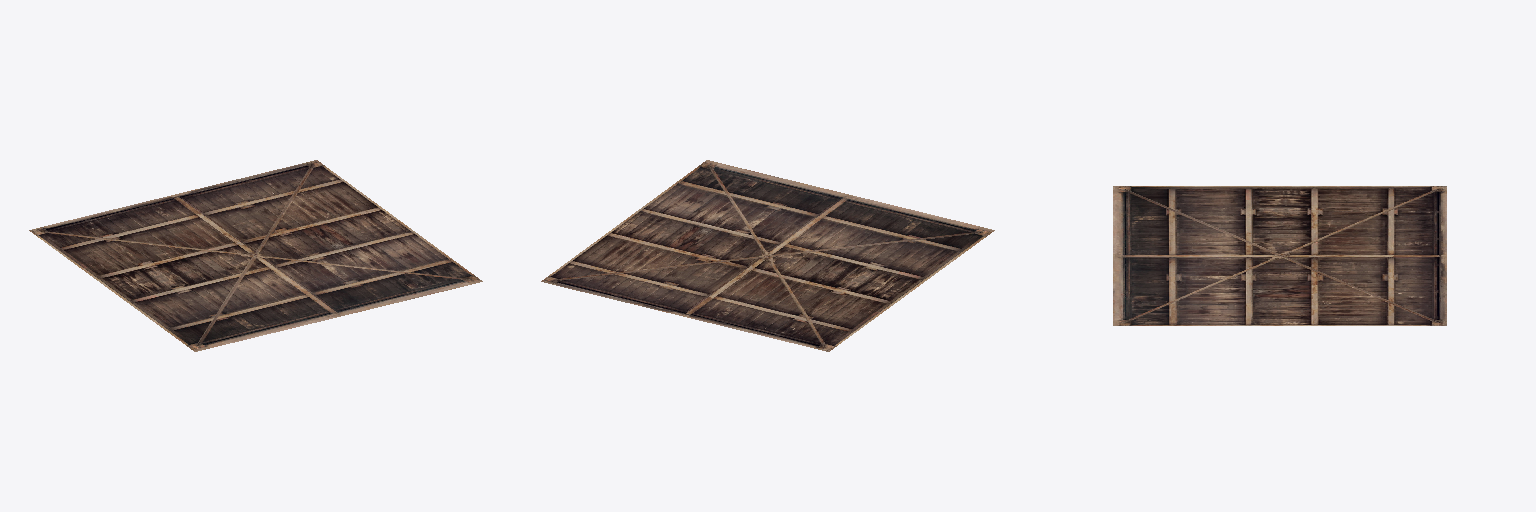
3 renders of one model, left to right at view 1: azimuth 30°, elevation 25°; view 2: azimuth 150°, elevation 25°; view 3: azimuth 270°, elevation 25°, orthographic.
Visible parts, largest first — view 1: Plane; view 2: Plane; view 3: Plane.
Part boxes in pixels (bbox=[...]): Plane: bbox=[29, 160, 482, 351]; Plane: bbox=[541, 160, 994, 351]; Plane: bbox=[1113, 186, 1446, 325].
Bounding box in the file's own units: 2 × 0 × 2.
Materials: 1 (1 with a texture image).